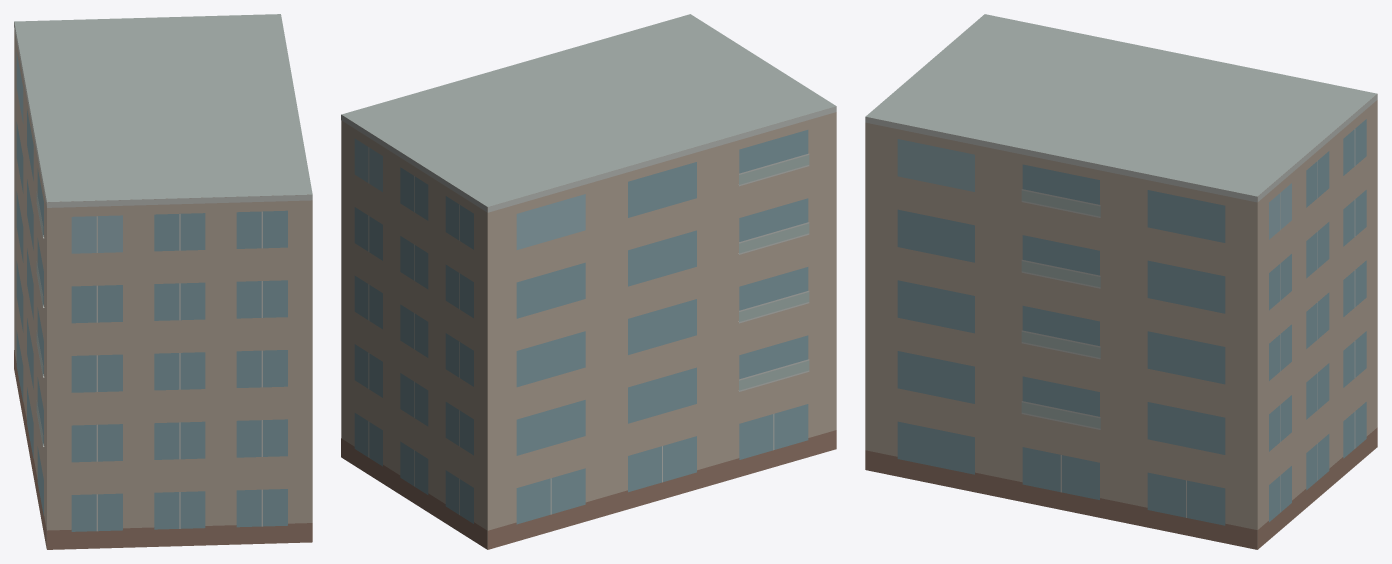
Rendered from survey-upis-33043625.glb.
3 views of the same model, side by side, from view 1: azimuth 30°, elevation 25°; view 2: azimuth 150°, elevation 25°; view 3: azimuth 270°, elevation 25° (orthographic). The views are drawn at different scales.
Visible parts, largest first — view 1: survey-upis-33043625.tmp; view 2: survey-upis-33043625.tmp; view 3: survey-upis-33043625.tmp.
Boxes of the visible parts, x1=… form: survey-upis-33043625.tmp: x1=14, y1=14, x2=312, y2=549; survey-upis-33043625.tmp: x1=341, y1=14, x2=836, y2=549; survey-upis-33043625.tmp: x1=865, y1=14, x2=1377, y2=549.
Bounding box in the file's own units: 16.19 × 14.6 × 19.19.
